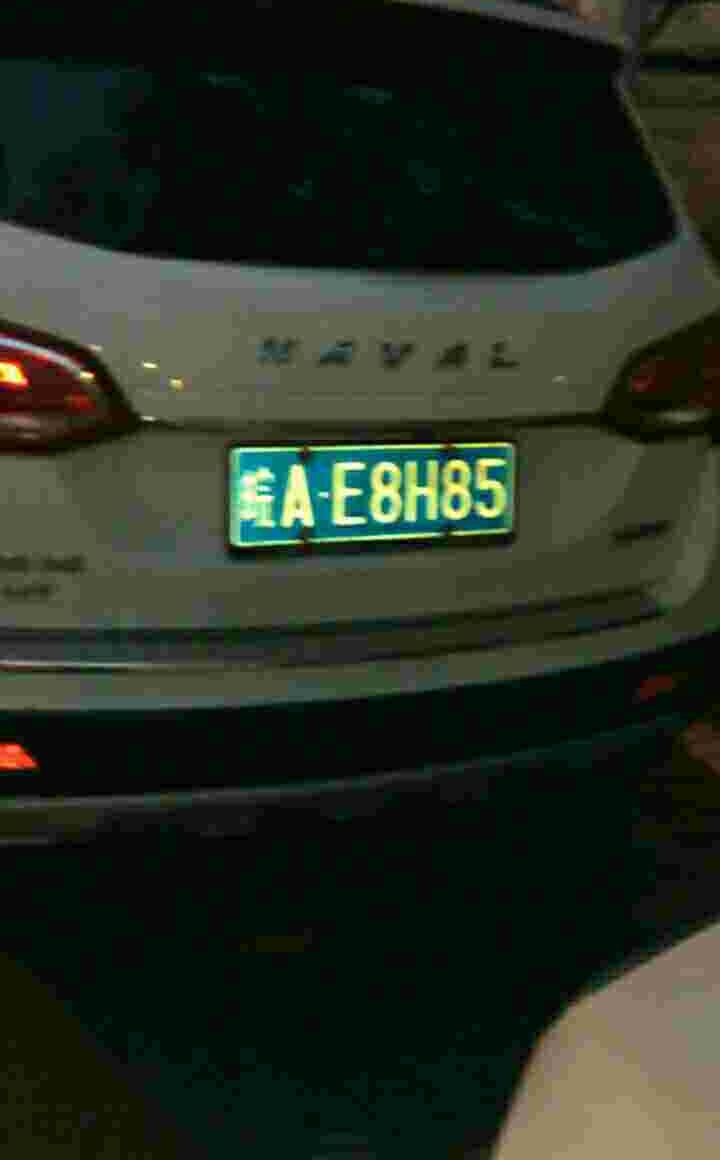plate: (240, 444, 524, 545)
